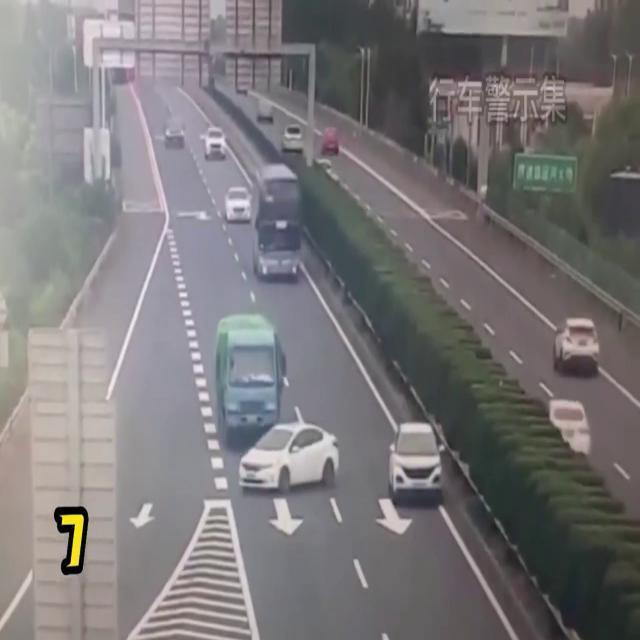accident: (215, 313, 342, 499)
non-accident: (220, 163, 304, 283)
